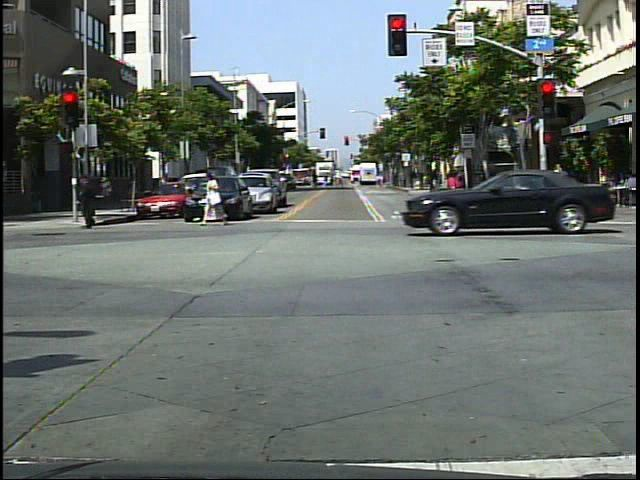person: (75, 169, 106, 235), (200, 168, 231, 232), (439, 167, 469, 225), (547, 160, 570, 211)
